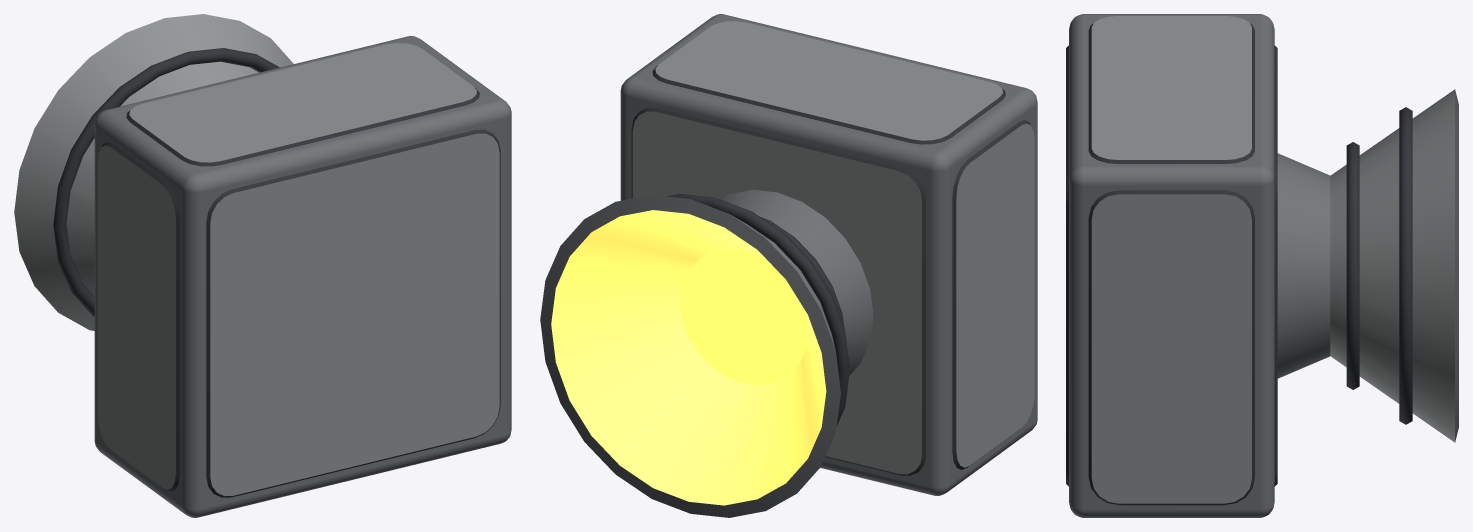
File: R4X_Booster.glb
The picture shows the model from 3 angles, left to right: view 1: azimuth 30°, elevation 25°; view 2: azimuth 150°, elevation 25°; view 3: azimuth 270°, elevation 25°; orthographic projection. The views are drawn at different scales.
Parts seen in each view (by area): view 1: R4X_Booster_Body; view 2: R4X_Booster_Body; view 3: R4X_Booster_Body.
Boxes of the visible parts, bbox=[...] form: R4X_Booster_Body: bbox=[14, 14, 511, 517]; R4X_Booster_Body: bbox=[540, 14, 1037, 517]; R4X_Booster_Body: bbox=[1066, 14, 1458, 517].
Bounding box in the file's own units: 0.52 × 0.52 × 0.52.
